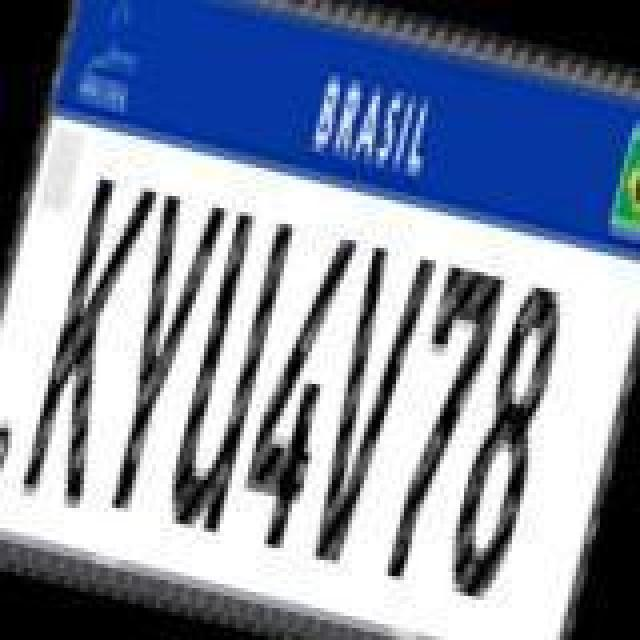4: (228, 226, 364, 558)
7: (372, 262, 508, 586)
8: (434, 276, 574, 612)
K: (16, 170, 160, 510)
U: (164, 202, 300, 534)
V: (296, 240, 440, 576)
Y: (88, 186, 232, 518)
